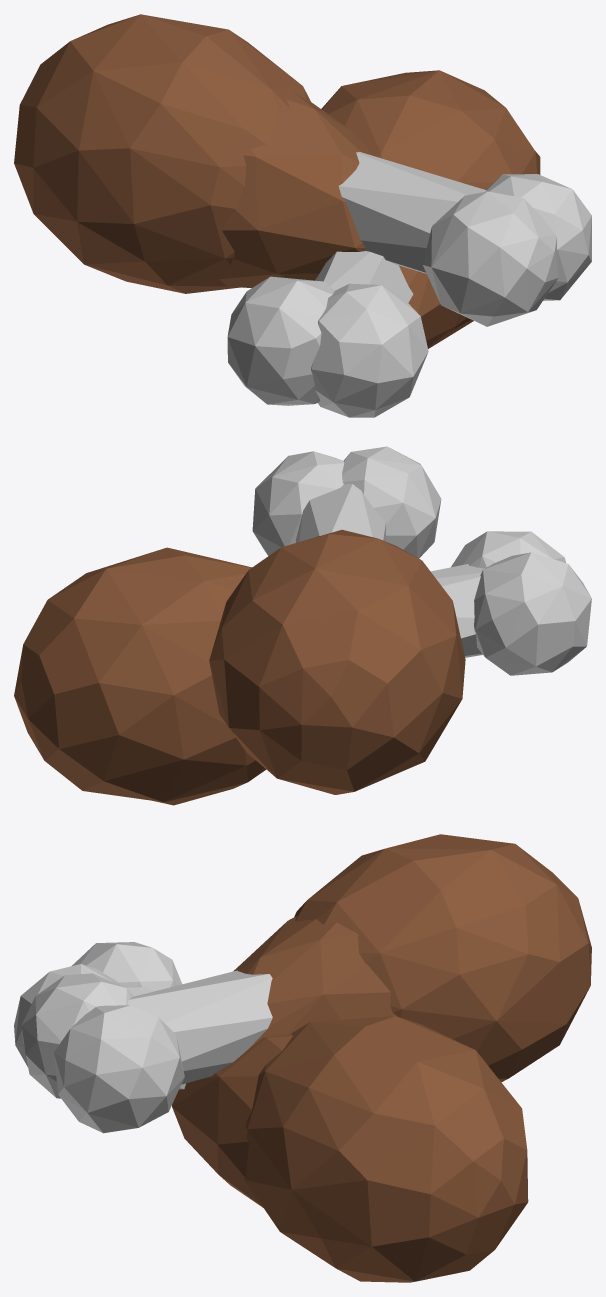
File: food_3_fried_chicken.fbx
3 renders of one model, top to bottom at view 1: azimuth 30°, elevation 25°; view 2: azimuth 150°, elevation 25°; view 3: azimuth 270°, elevation 25°, orthographic. The views are drawn at different scales.
Parts seen in each view (by area): view 1: food_fried_chicken; view 2: food_fried_chicken; view 3: food_fried_chicken.
Boxes of the visible parts, x1=… form: food_fried_chicken: x1=14, y1=14, x2=591, y2=417; food_fried_chicken: x1=14, y1=446, x2=591, y2=805; food_fried_chicken: x1=14, y1=834, x2=591, y2=1282.
Size of the model in its own units: 64.19 by 44.01 by 71.64.
